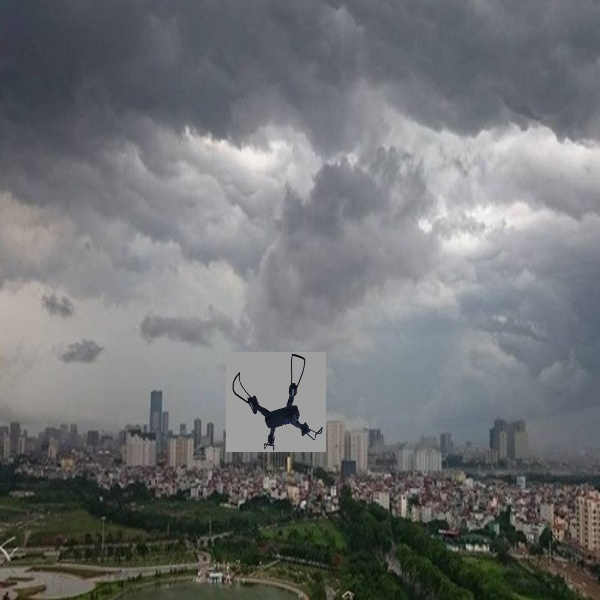drone: (233, 351, 323, 450)
